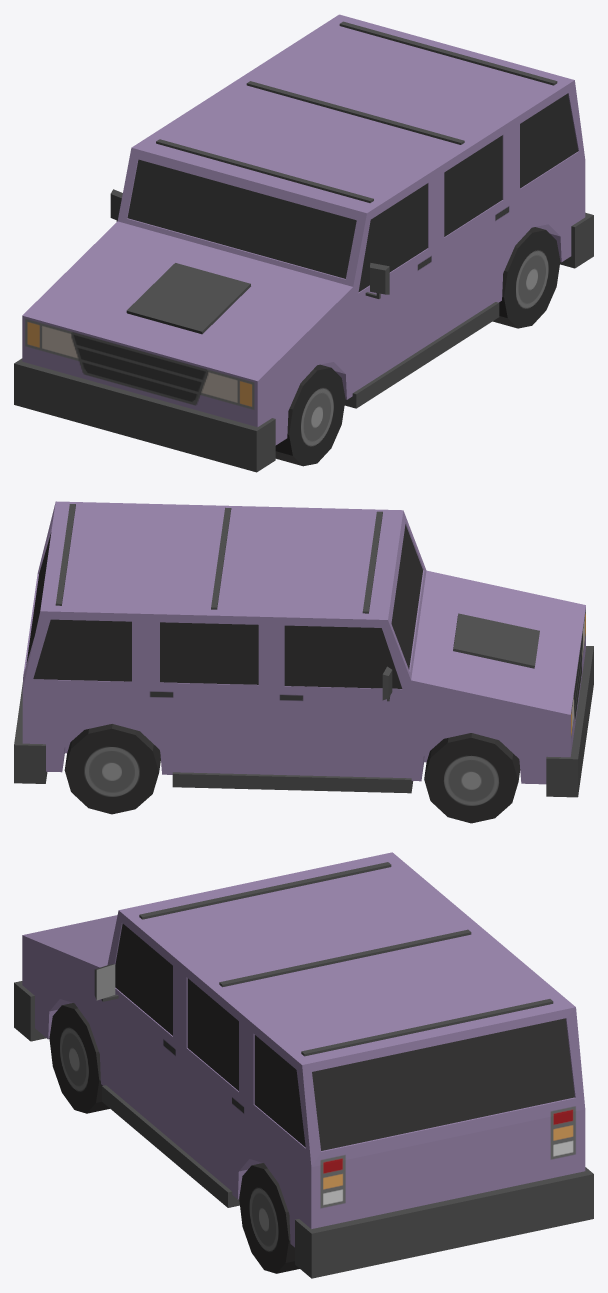
The model's file is Car7_suv1.glb.
3 views of the same model, one above another, from view 1: azimuth 30°, elevation 25°; view 2: azimuth 150°, elevation 25°; view 3: azimuth 270°, elevation 25° (orthographic). The views are drawn at different scales.
Parts seen in each view (by area): view 1: Vehicle_SUV_color01.008; view 2: Vehicle_SUV_color01.008; view 3: Vehicle_SUV_color01.008.
Boxes of the visible parts, <box> form: Vehicle_SUV_color01.008: <box>14,14,593,472</box>; Vehicle_SUV_color01.008: <box>14,501,593,823</box>; Vehicle_SUV_color01.008: <box>14,852,593,1278</box>.
Bounding box in the file's own units: 1.59 × 0.5687 × 1.25.
1 material, 1 textured.
